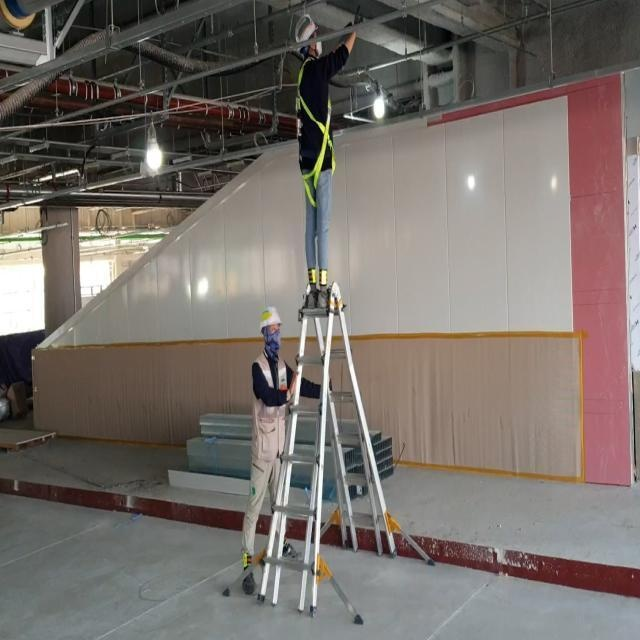Arnes_seguridad: (298, 58, 335, 208)
